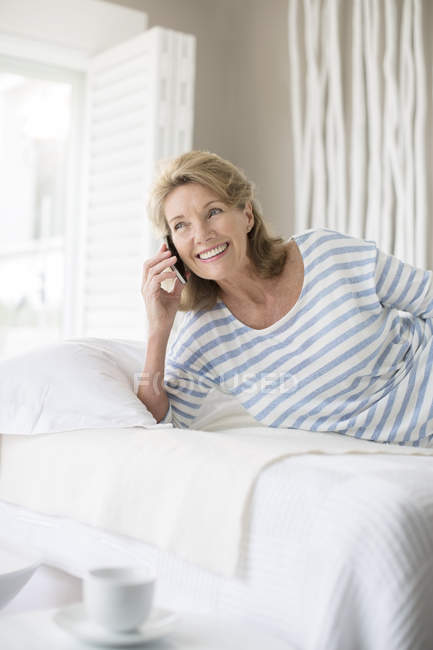phone: (142, 232, 188, 294)
talk: (132, 201, 238, 330)
